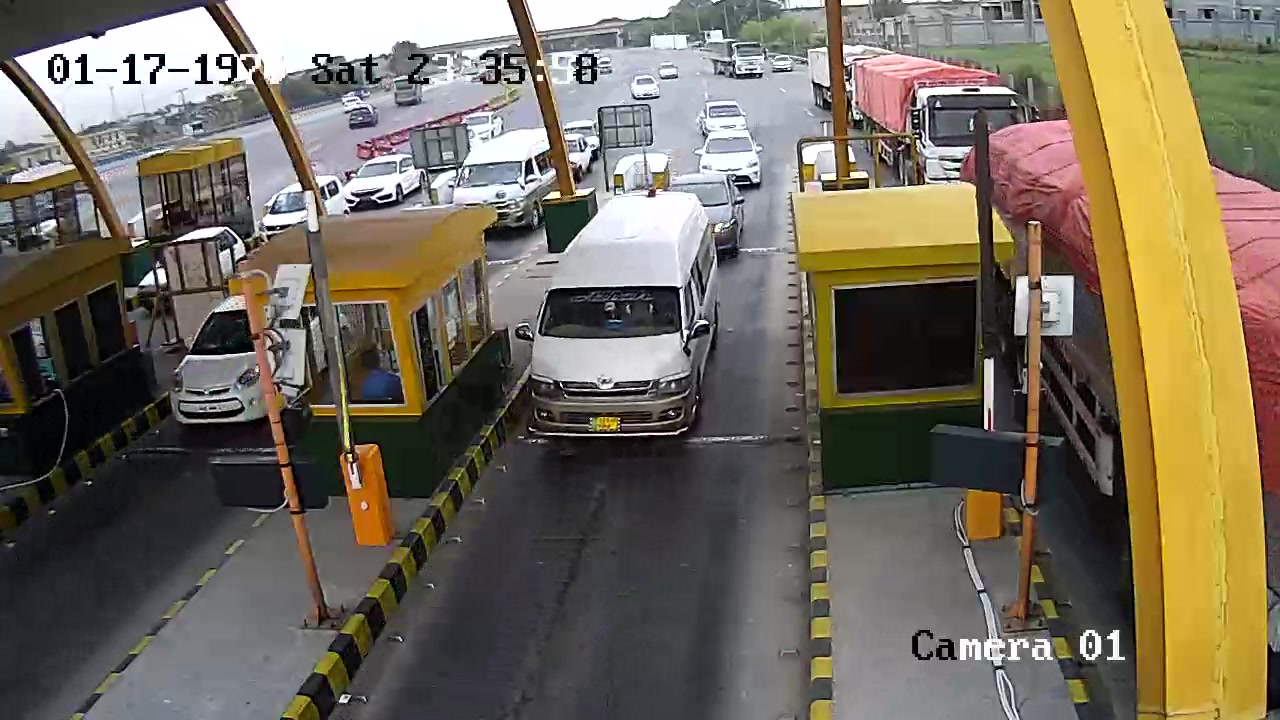F3: (522, 182, 712, 455)
